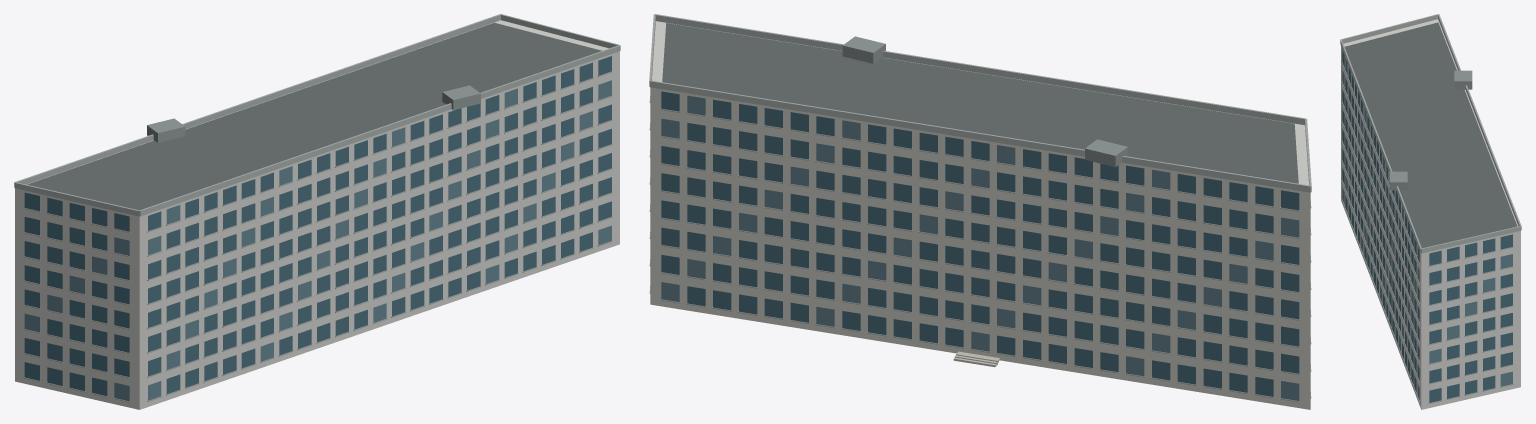
The model's file is 东侧办公园区-036.glb.
3 views of the same model, side by side, from view 1: azimuth 30°, elevation 25°; view 2: azimuth 150°, elevation 25°; view 3: azimuth 270°, elevation 25° (orthographic). The views are drawn at different scales.
Visible parts, largest first — view 1: 东侧办公园区-036; view 2: 东侧办公园区-036; view 3: 东侧办公园区-036.
Part boxes in pixels (bbox=[...]): 东侧办公园区-036: bbox=[14, 14, 620, 409]; 东侧办公园区-036: bbox=[649, 14, 1311, 409]; 东侧办公园区-036: bbox=[1340, 14, 1521, 409].
Bounding box in the file's own units: 86.85 × 28.42 × 28.3.
